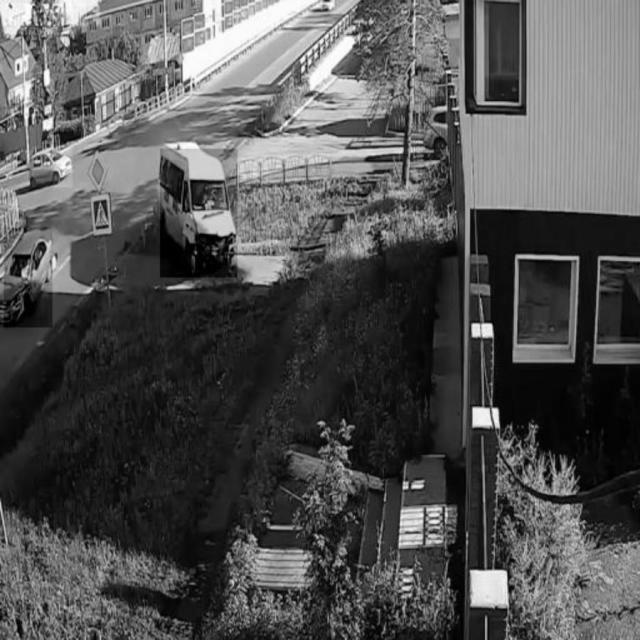vehicle: (160, 149, 237, 277), (4, 228, 52, 328), (33, 147, 73, 188)
